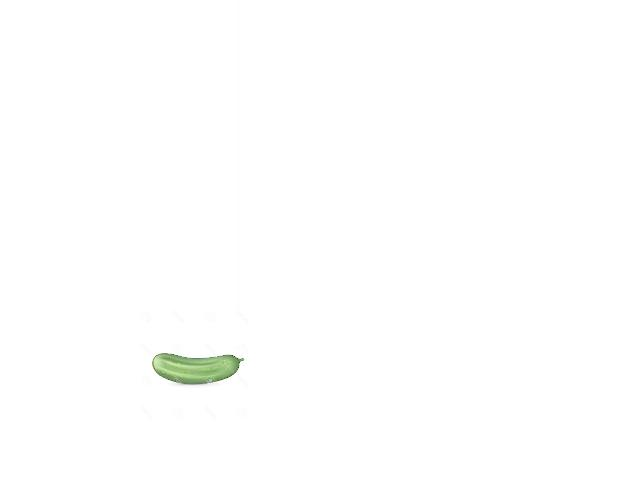cucumber: (151, 353, 243, 385)
